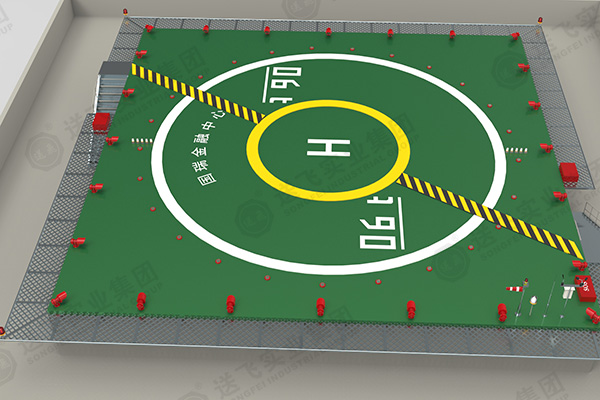H: (307, 140, 351, 158)
